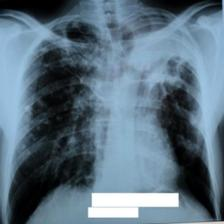tuberculosis: (4, 4, 218, 224)
